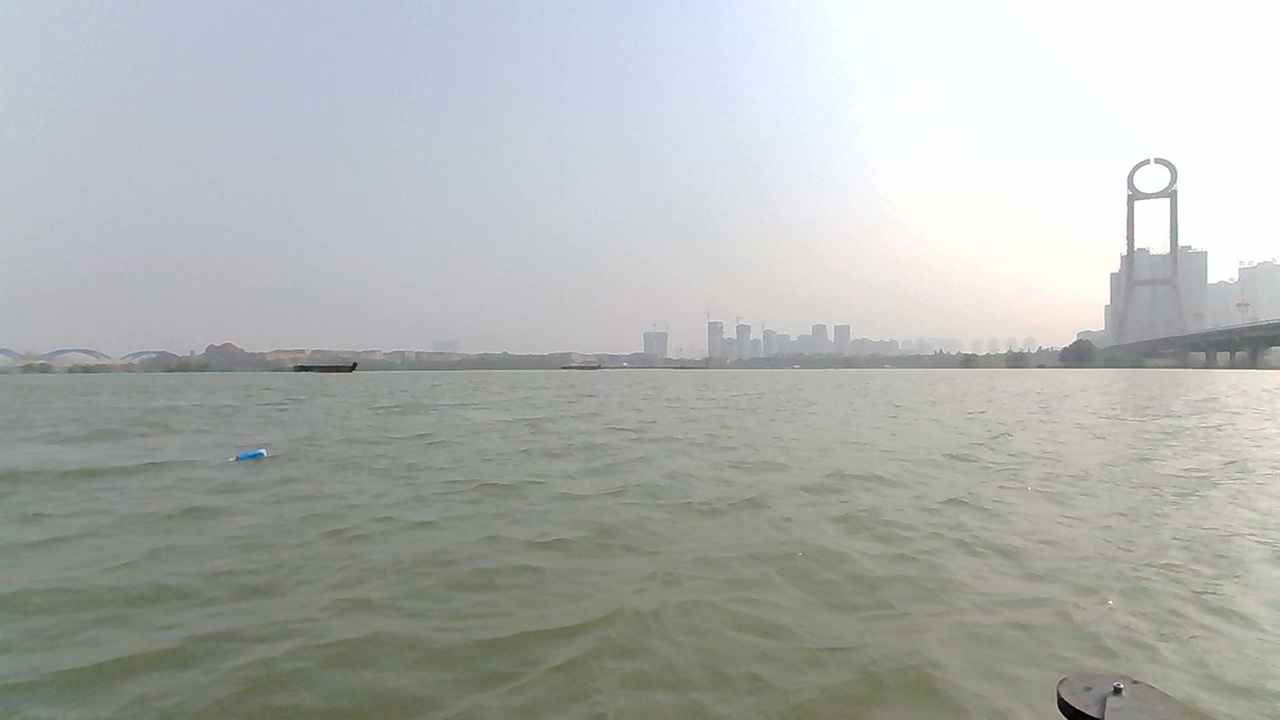bottle: (228, 448, 273, 470)
